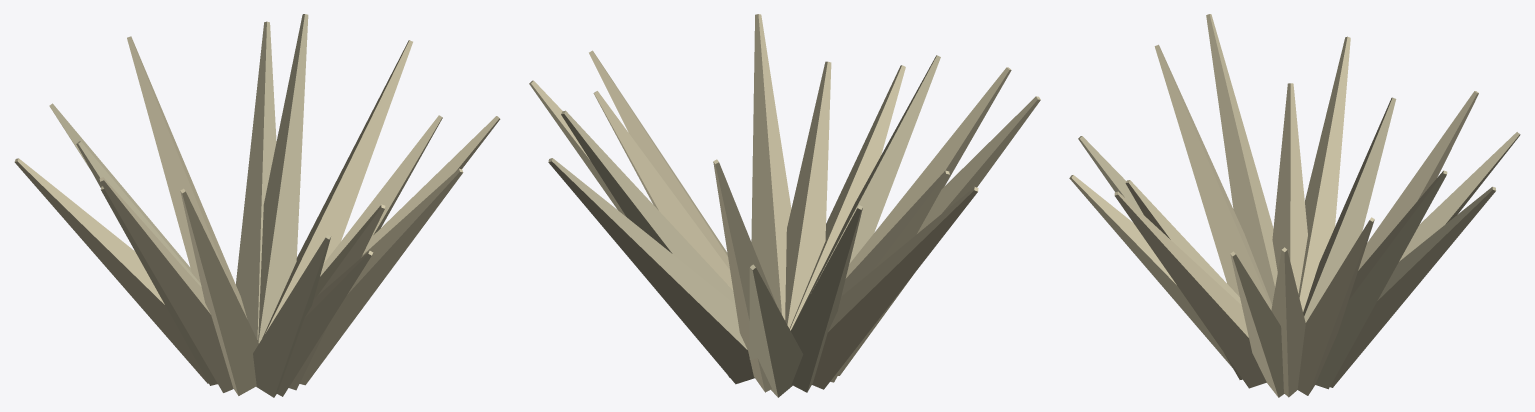
Rendered from Tussock.glb.
The picture shows the model from 3 angles, left to right: view 1: azimuth 30°, elevation 25°; view 2: azimuth 150°, elevation 25°; view 3: azimuth 270°, elevation 25°; orthographic projection. The views are drawn at different scales.
Parts seen in each view (by area): view 1: Limb.010, Limb.011, Limb.015, Limb.017, Limb.009, Limb.018, Limb.022, Limb.012, Limb.019, Limb.020, Limb.008, Limb.023 (+4 smaller); view 2: Limb.011, Limb.022, Limb.015, Limb.021, Limb.010, Limb.014, Limb.019, Limb.013, Limb.012, Limb.020, Limb.008, Limb.018 (+4 smaller); view 3: Limb.022, Limb.017, Limb.018, Limb.015, Limb.010, Limb.011, Limb.016, Limb.014, Limb.009, Limb.023, Limb.008, Limb.020 (+4 smaller).
Boxes of the visible parts, x1=… form: Limb.010: x1=257, y1=14, x2=308, y2=343; Limb.011: x1=236, y1=21, x2=276, y2=340; Limb.015: x1=14, y1=158, x2=208, y2=383; Limb.017: x1=99, y1=177, x2=233, y2=392; Limb.009: x1=262, y1=40, x2=412, y2=337; Limb.018: x1=180, y1=188, x2=258, y2=395; Limb.022: x1=299, y1=168, x2=463, y2=385; Limb.012: x1=127, y1=36, x2=247, y2=318; Limb.019: x1=253, y1=234, x2=330, y2=397; Limb.020: x1=277, y1=250, x2=373, y2=396; Limb.008: x1=320, y1=115, x2=442, y2=276; Limb.023: x1=362, y1=116, x2=500, y2=254; Limb.011: x1=548, y1=158, x2=754, y2=384; Limb.022: x1=751, y1=14, x2=791, y2=319; Limb.015: x1=812, y1=187, x2=978, y2=389; Limb.021: x1=785, y1=61, x2=831, y2=328; Limb.010: x1=561, y1=110, x2=735, y2=377; Limb.014: x1=791, y1=205, x2=862, y2=392; Limb.019: x1=794, y1=55, x2=940, y2=323; Limb.013: x1=749, y1=264, x2=803, y2=397; Limb.012: x1=713, y1=159, x2=776, y2=392; Limb.020: x1=789, y1=65, x2=905, y2=330; Limb.008: x1=593, y1=91, x2=732, y2=289; Limb.018: x1=845, y1=67, x2=1011, y2=278; Limb.022: x1=1114, y1=191, x2=1266, y2=388; Limb.017: x1=1206, y1=14, x2=1277, y2=304; Limb.018: x1=1154, y1=44, x2=1272, y2=310; Limb.015: x1=1298, y1=36, x2=1350, y2=311; Limb.010: x1=1315, y1=170, x2=1447, y2=389; Limb.011: x1=1330, y1=186, x2=1496, y2=387; Limb.016: x1=1272, y1=83, x2=1307, y2=293; Limb.014: x1=1303, y1=97, x2=1396, y2=322; Limb.009: x1=1297, y1=217, x2=1374, y2=395; Limb.023: x1=1230, y1=251, x2=1284, y2=397; Limb.008: x1=1271, y1=247, x2=1305, y2=397; Limb.020: x1=1069, y1=175, x2=1232, y2=367.
Size of the model in its own units: 0.8366 by 0.5278 by 0.791.
